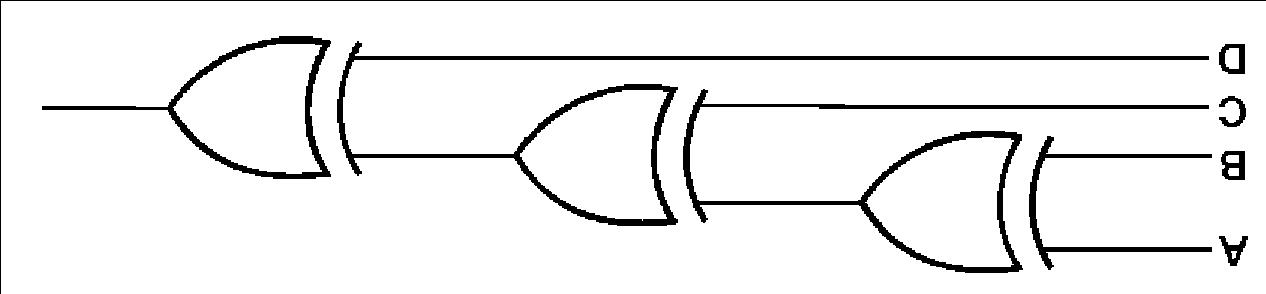xor: (132, 17, 404, 194), (823, 119, 1106, 280), (484, 72, 747, 234)
